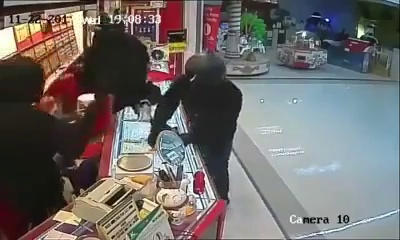helmet: (178, 56, 225, 89)
